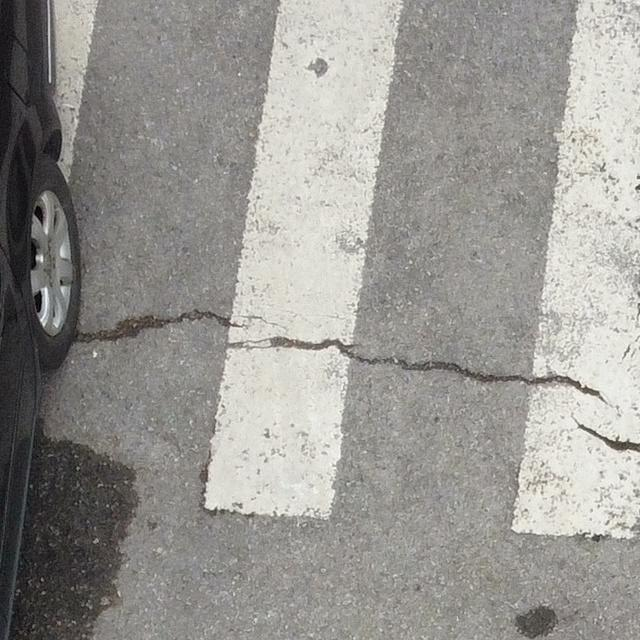TransverseCrack: (229, 334, 615, 409), (75, 307, 243, 344), (574, 412, 640, 452)
